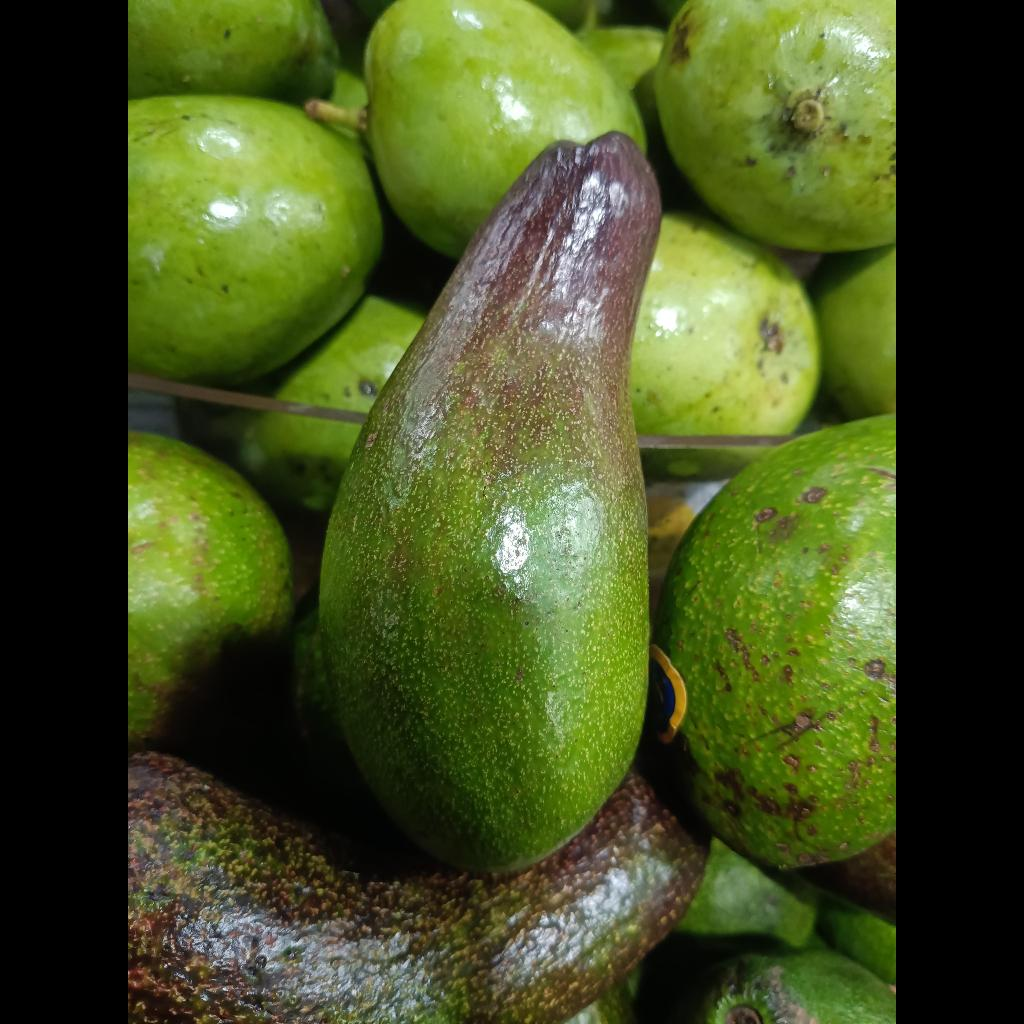stem end rot: (320, 132, 660, 870)
